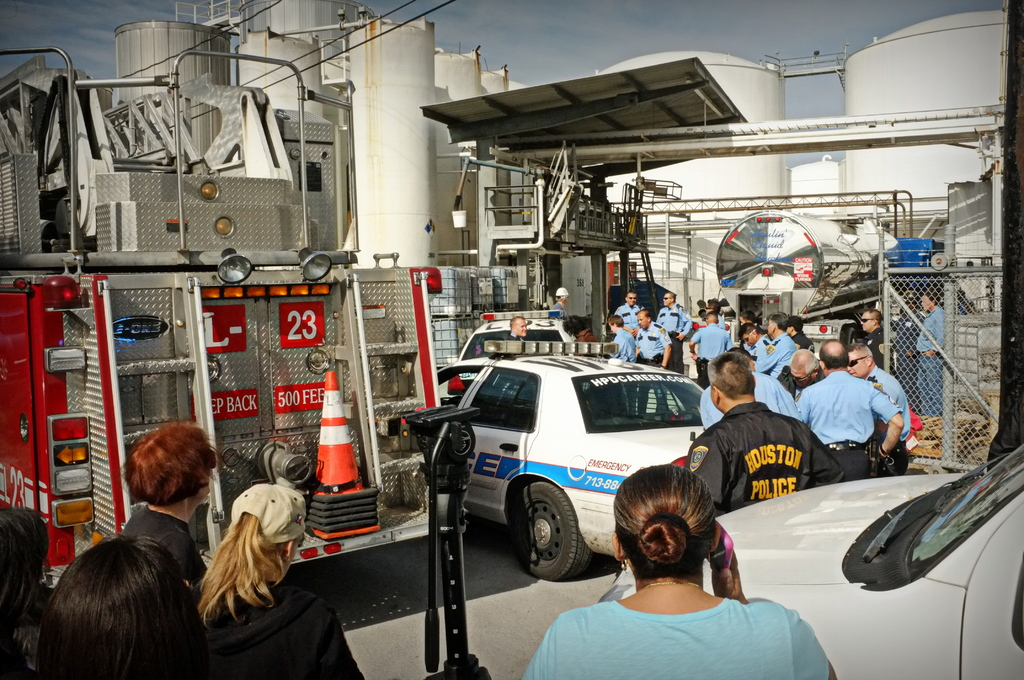Car: (596, 440, 1023, 679), (418, 352, 726, 592), (446, 309, 578, 398)
